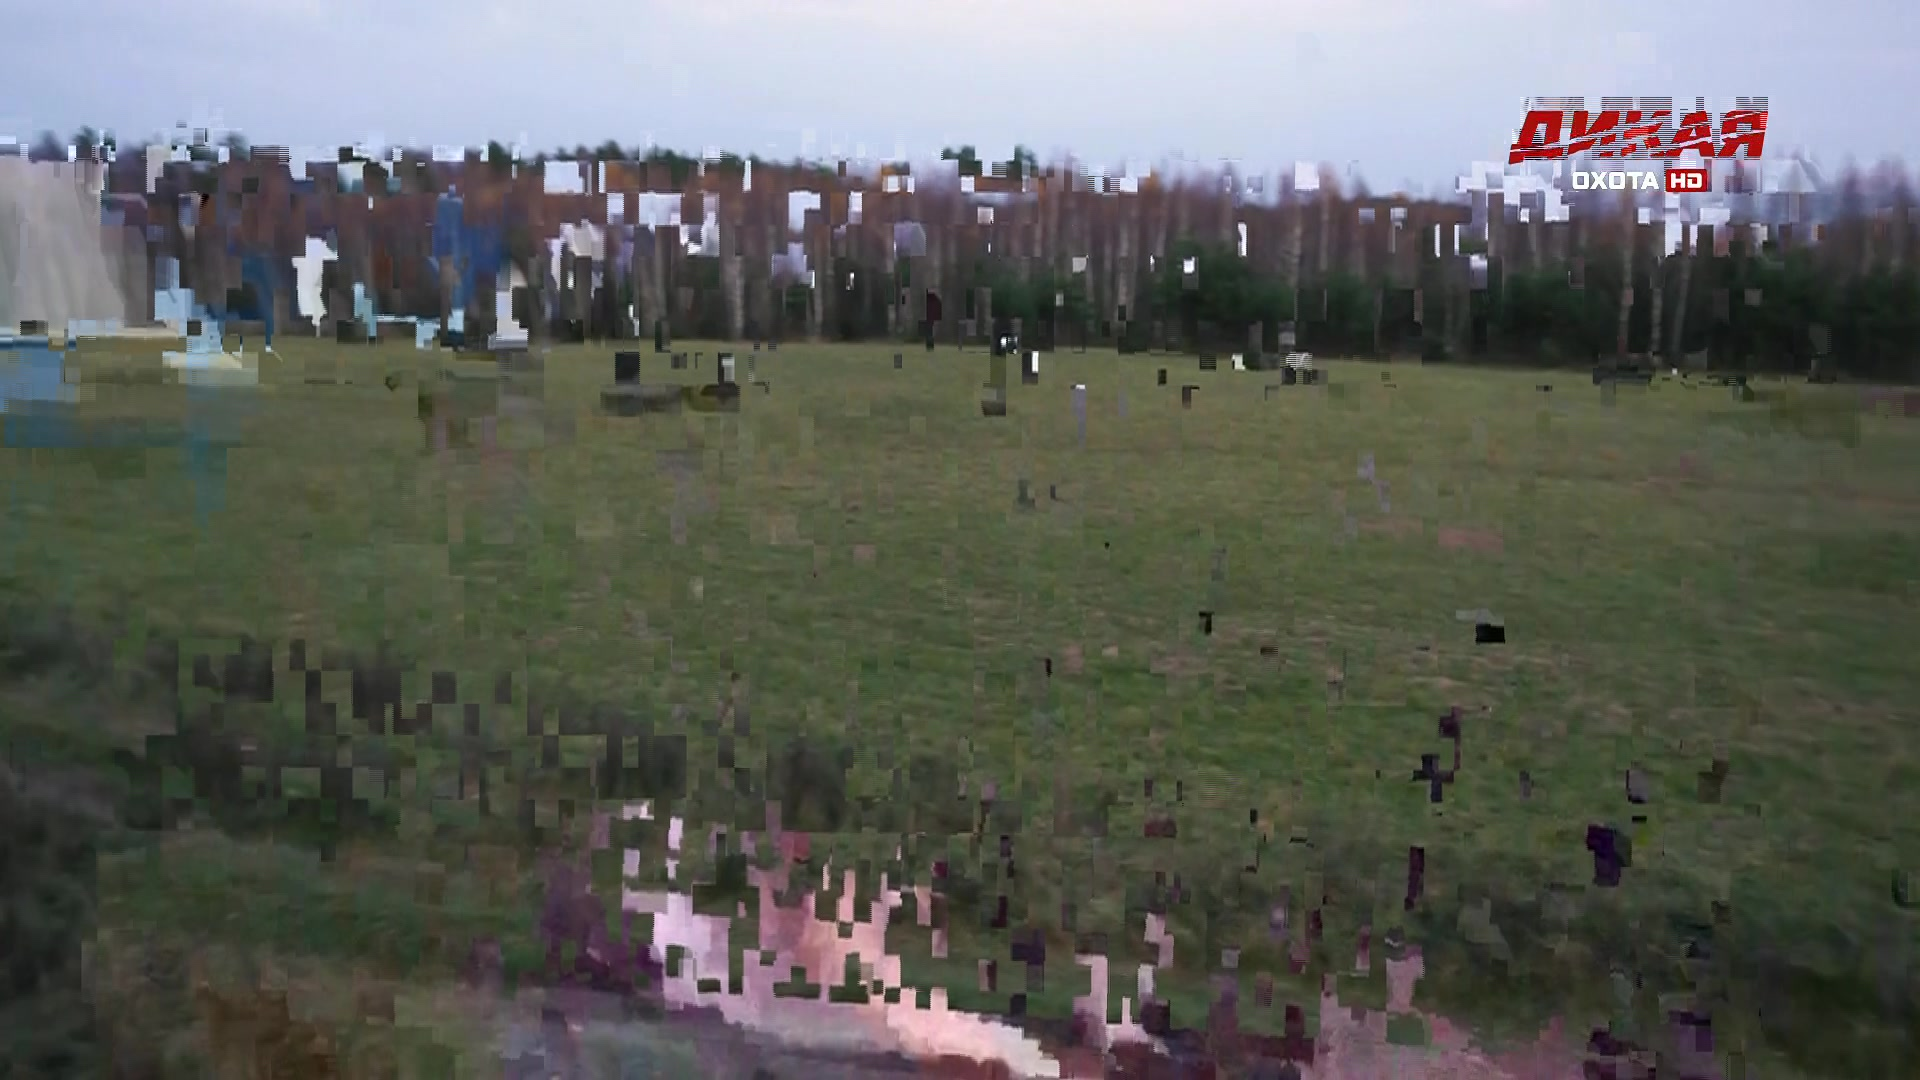Dikaya_Ohota_HD: (1503, 103, 1774, 199)
